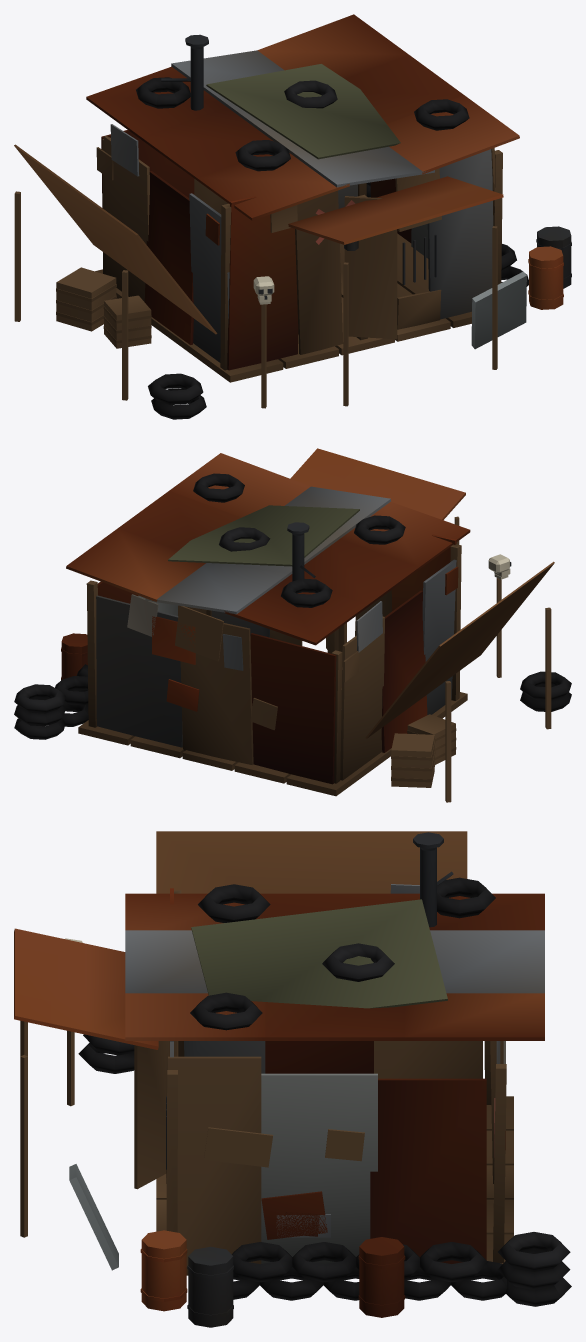
File: shanty_hut.glb
3 views of the same model, one above another, from view 1: azimuth 30°, elevation 25°; view 2: azimuth 150°, elevation 25°; view 3: azimuth 270°, elevation 25° (orthographic). The views are drawn at different scales.
Parts seen in each view (by area): view 1: rust, wood, metal_bare, canvas, rubber, paint, metal_dark; view 2: rust, wood, metal_bare, canvas, rubber, paint, metal_dark; view 3: rust, canvas, wood, rubber, paint, metal_bare, metal_dark.
Boxes of the visible parts, bbox=[...] form: rust: bbox=[86, 14, 563, 370]; wood: bbox=[14, 135, 502, 408]; metal_bare: bbox=[110, 50, 493, 362]; canvas: bbox=[14, 64, 400, 334]; rubber: bbox=[136, 77, 528, 419]; paint: bbox=[315, 200, 526, 349]; metal_dark: bbox=[161, 34, 571, 299]; rust: bbox=[61, 448, 470, 784]; wood: bbox=[78, 516, 551, 802]; metal_bare: bbox=[96, 486, 456, 747]; canvas: bbox=[168, 505, 554, 738]; rubber: bbox=[14, 473, 571, 739]; paint: bbox=[127, 594, 177, 636]; metal_dark: bbox=[287, 522, 511, 592]; rust: bbox=[14, 888, 544, 1317]; canvas: bbox=[156, 831, 467, 1008]; wood: bbox=[20, 890, 513, 1275]; rubber: bbox=[78, 877, 571, 1306]; paint: bbox=[69, 1041, 505, 1270]; metal_bare: bbox=[125, 884, 544, 1237]; metal_dark: bbox=[166, 832, 453, 1327].
Size of what is drawn, in the model's own units: 8.66 by 4.59 by 7.18.
